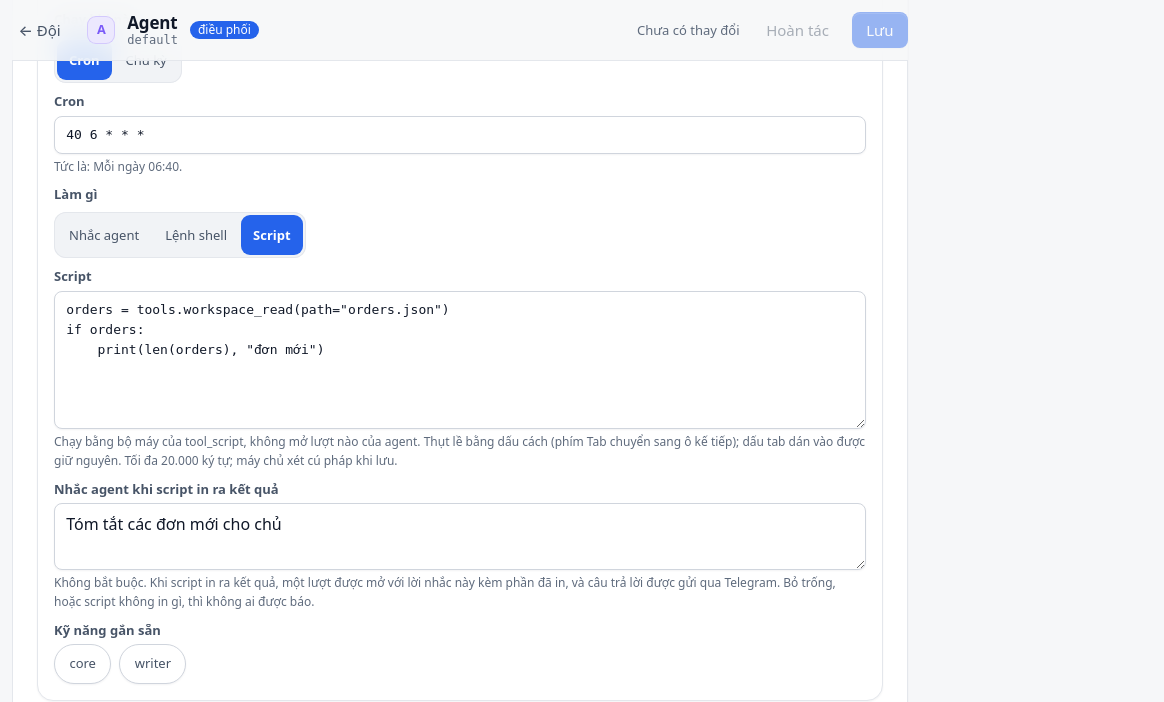
Test: a schedule that runs a script, in the agent editor › is typed in where it stands, and what is typed is what is saved
The width and height of the screenshot is (1164, 702).
(page scrolled)
Expected: the button "Lưu" is disabled, [852,12,908,48]
Type "print(1)" into the text box labelled "Script" at (460, 360), box [54,291,866,429]
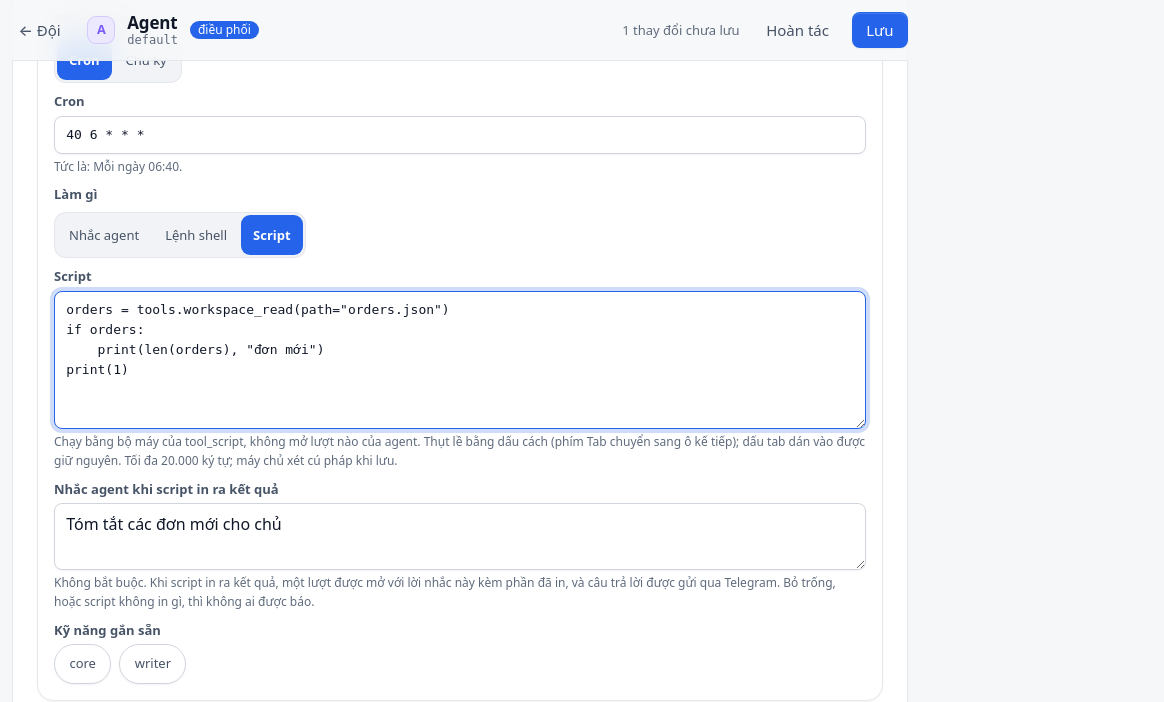
Type " nhé" into the text box labelled "Nhắc agent khi script in ra kết quả" at (460, 537), box [54,503,866,570]
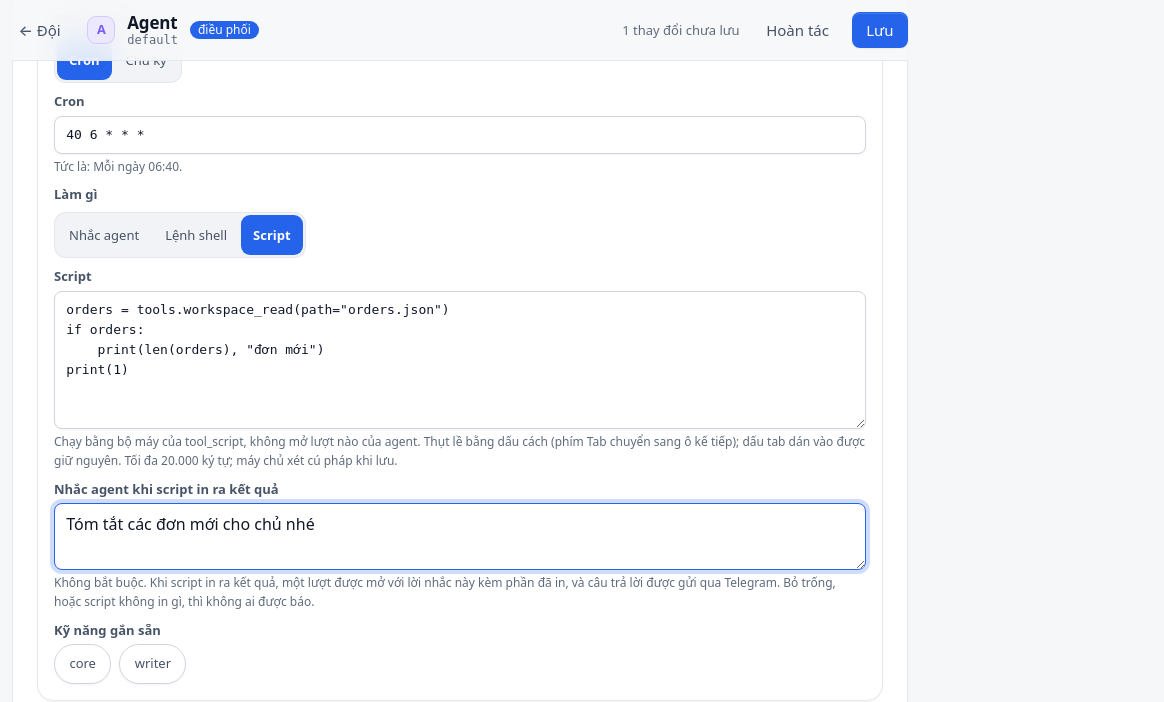
Click the button "Lưu" at (880, 30), box [852,12,908,48]
(page scrolled)
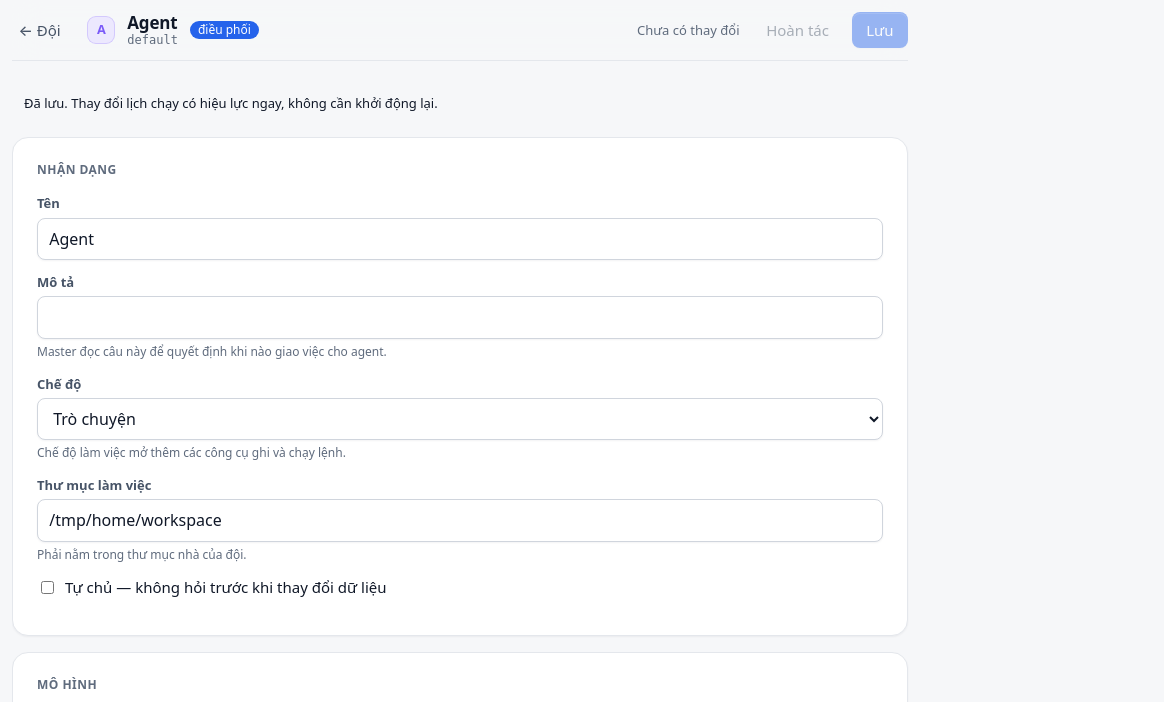
Expected: the message "Đã lưu. Thay đổi lịch chạy có hiệu lực ngay, không cần khởi động lại." is shown, [24,94,438,112]
